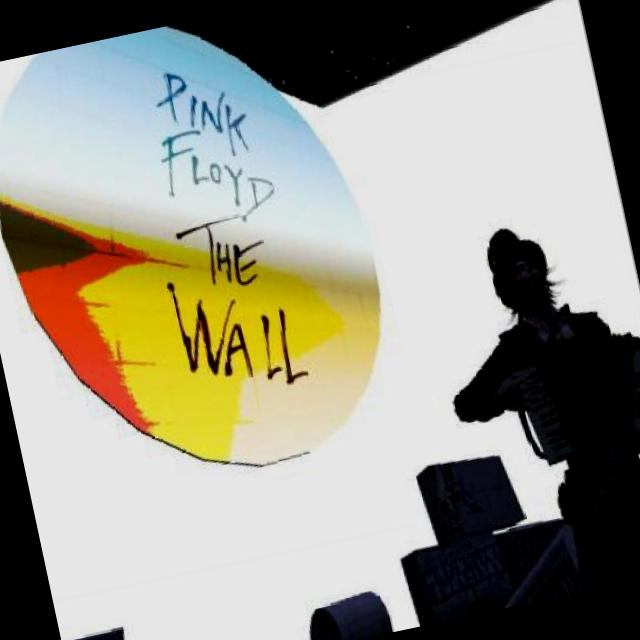Person: (420, 202, 640, 607)
